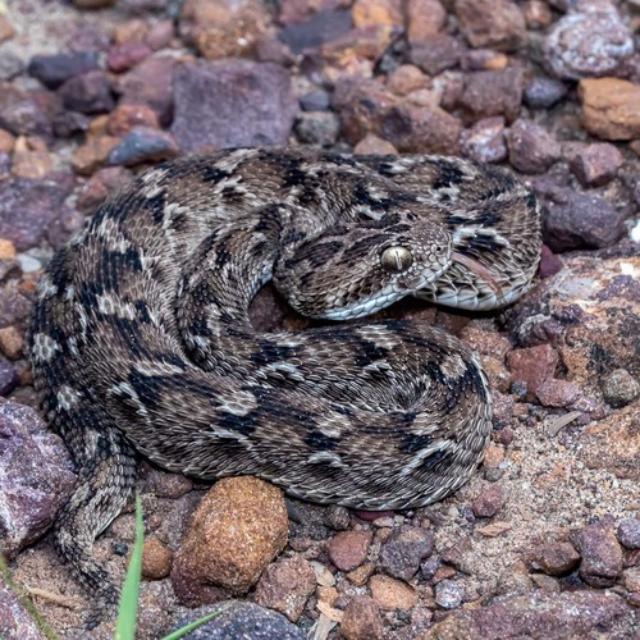snake: (24, 122, 544, 520)
